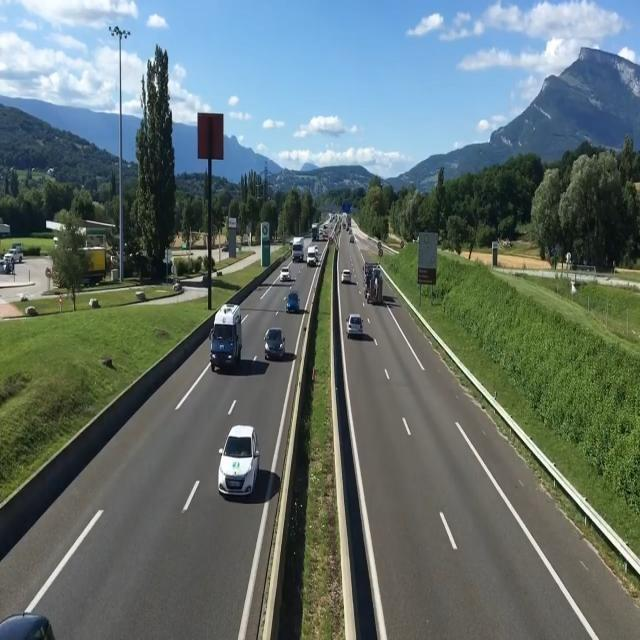Car: (216, 424, 258, 496), (263, 326, 287, 362), (346, 314, 364, 338), (286, 292, 300, 312), (278, 266, 291, 282), (341, 270, 352, 282)
Truck: (362, 260, 384, 304), (291, 236, 304, 262), (311, 223, 320, 242)
Van: (208, 303, 242, 373), (306, 246, 317, 267)
